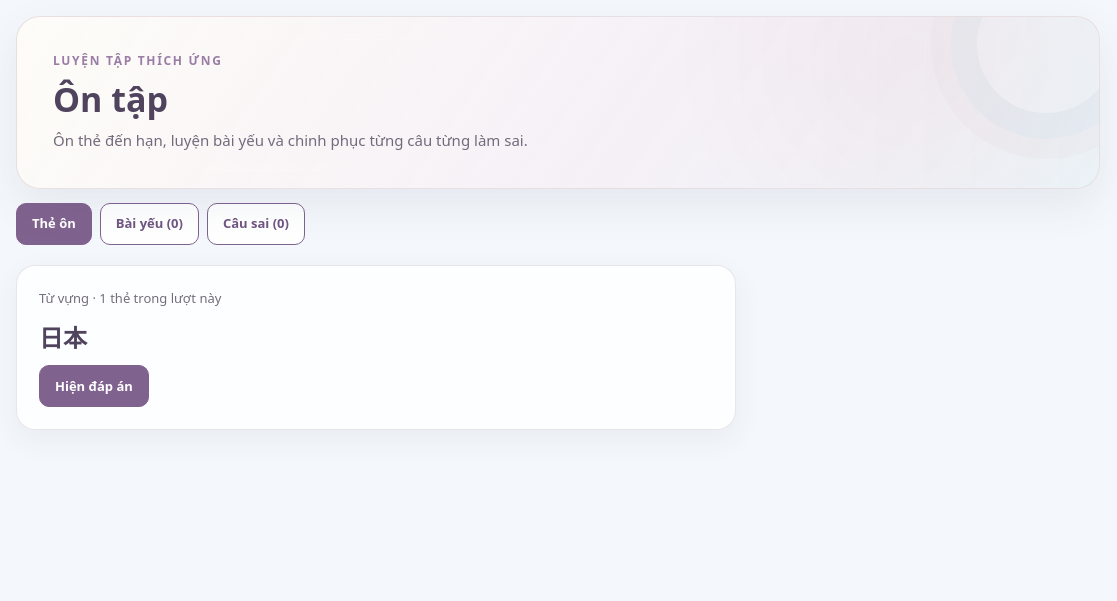
Test case: keeps the card when saving a rating fails and advances only after success
Click the button "Hiện đáp án" at (94, 386), box [39,365,149,407]
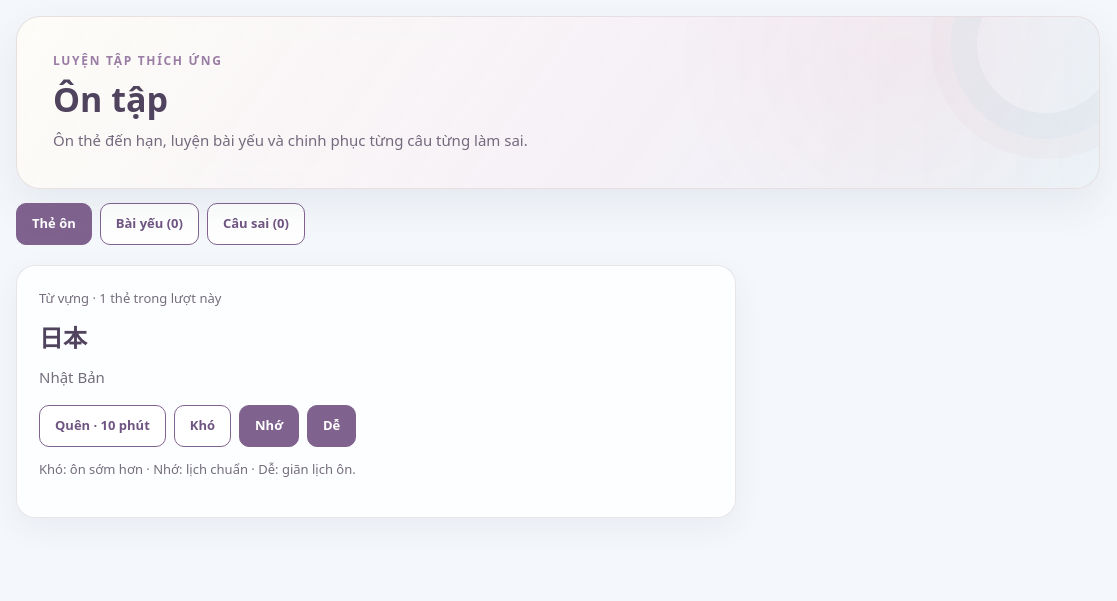
Click the button "Dễ" at (332, 426), box [307,405,356,447]
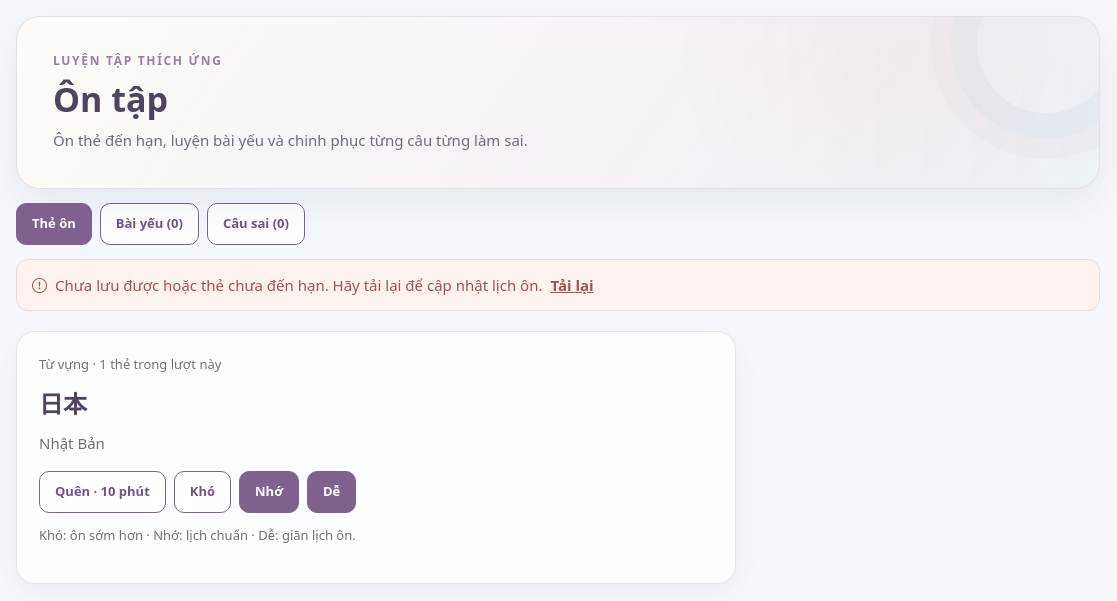
Check: the text "日本" is shown, box [39,387,87,420]
Check: the message "Chưa lưu được hoặc thẻ chưa đến hạn. Hãy tải lại để cập nhật lịch ôn. Tải lại" is shown, box [16,259,1100,311]
Click the button "Dễ" at (332, 492), box [307,471,356,513]
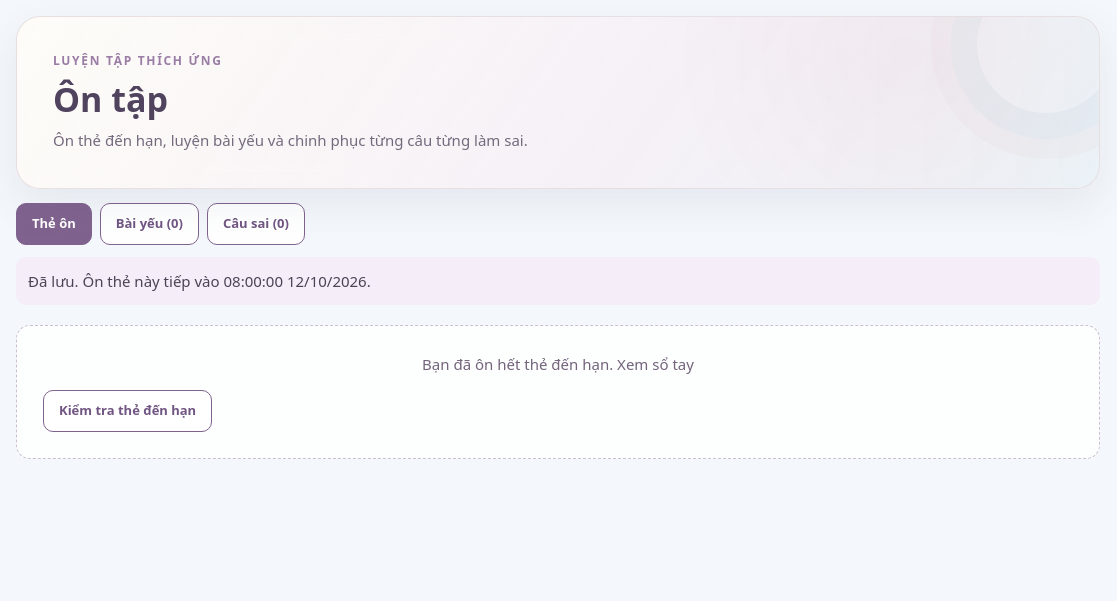
Check: the text "Bạn đã ôn hết thẻ" is shown, box [422,354,617,374]
